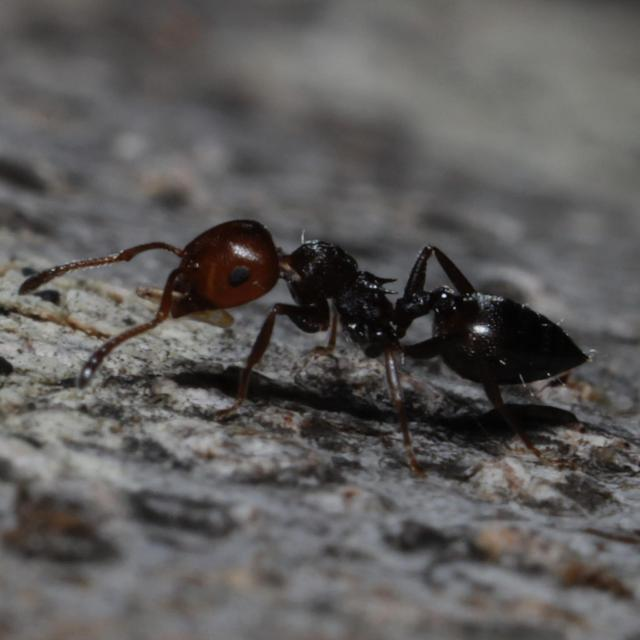Crematogaster: (54, 169, 582, 443)
